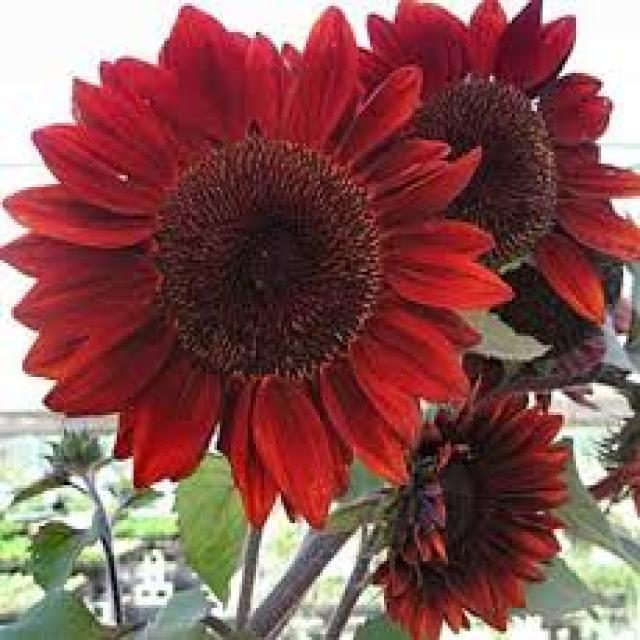sunflower: (0, 2, 517, 524), (295, 0, 640, 351), (359, 375, 576, 640), (597, 396, 640, 505)
